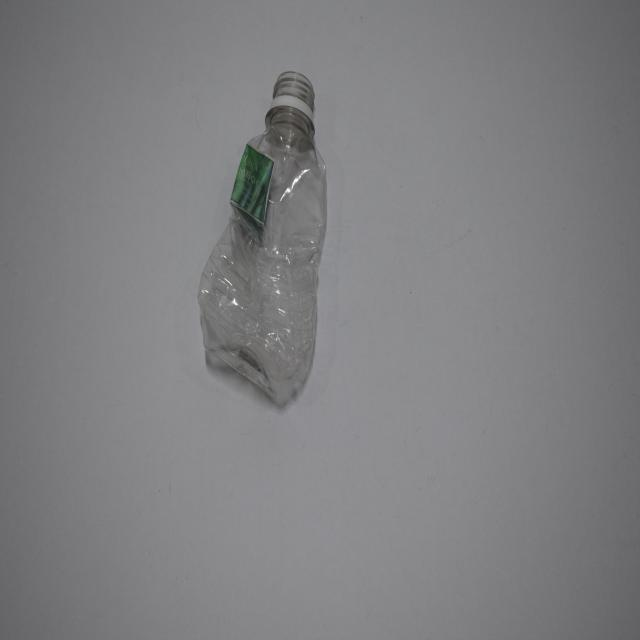plastic: (198, 61, 326, 409)
